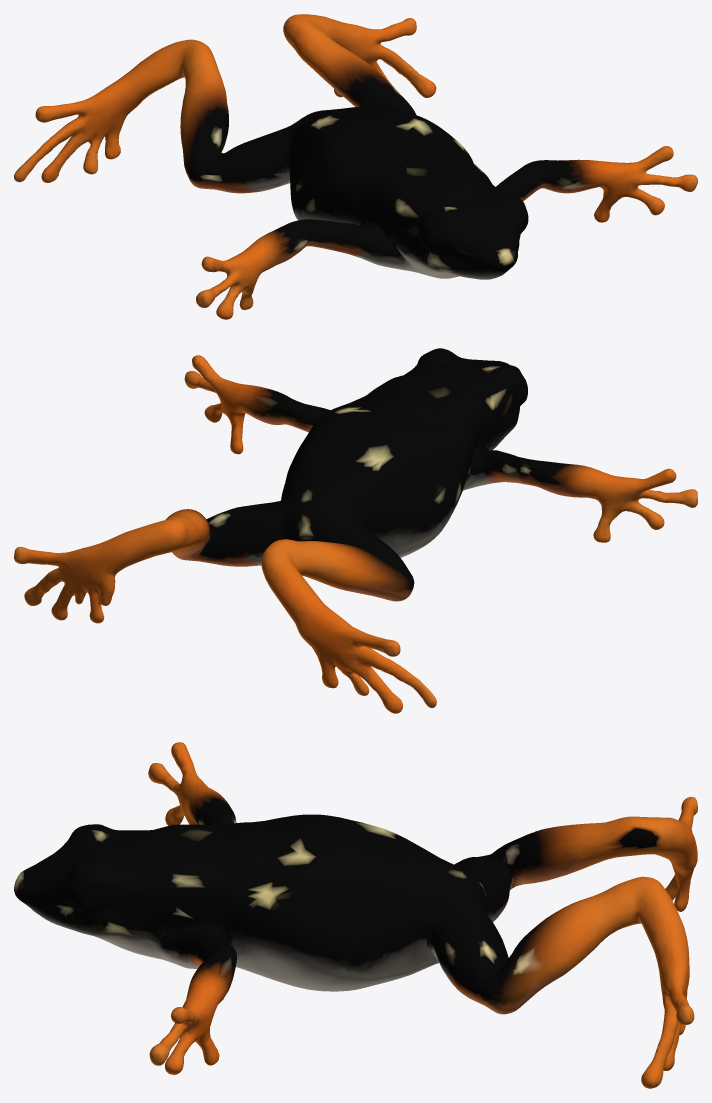
File: reedfrog.swim.glb
The picture shows the model from 3 angles, top to bottom: view 1: azimuth 30°, elevation 25°; view 2: azimuth 150°, elevation 25°; view 3: azimuth 270°, elevation 25°; orthographic projection. The views are drawn at different scales.
Parts seen in each view (by area): view 1: reedfrog.swim; view 2: reedfrog.swim; view 3: reedfrog.swim.
Boxes of the visible parts, x1,y1,x2,y2 form: reedfrog.swim: (14, 14, 697, 319); reedfrog.swim: (14, 348, 697, 713); reedfrog.swim: (14, 742, 697, 1088).
Size of the model in its own units: 0.0437 by 0.011 by 0.044.
